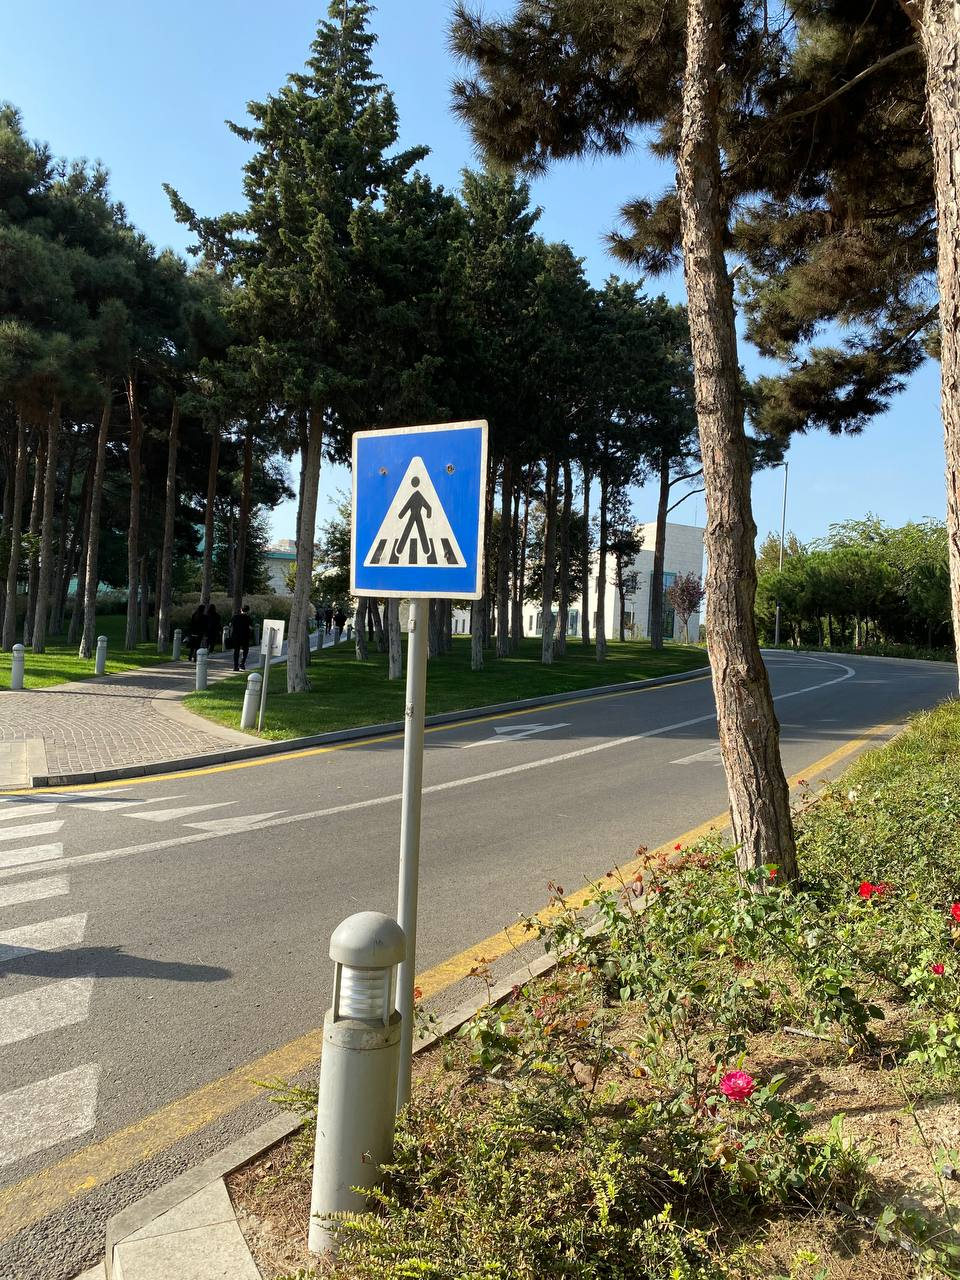Pedestrian Crossing: (349, 418, 490, 601)
